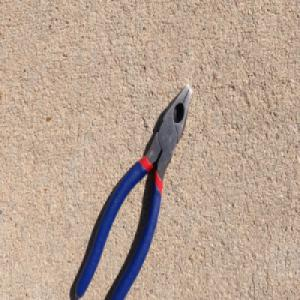Pliers: (75, 80, 195, 300)
